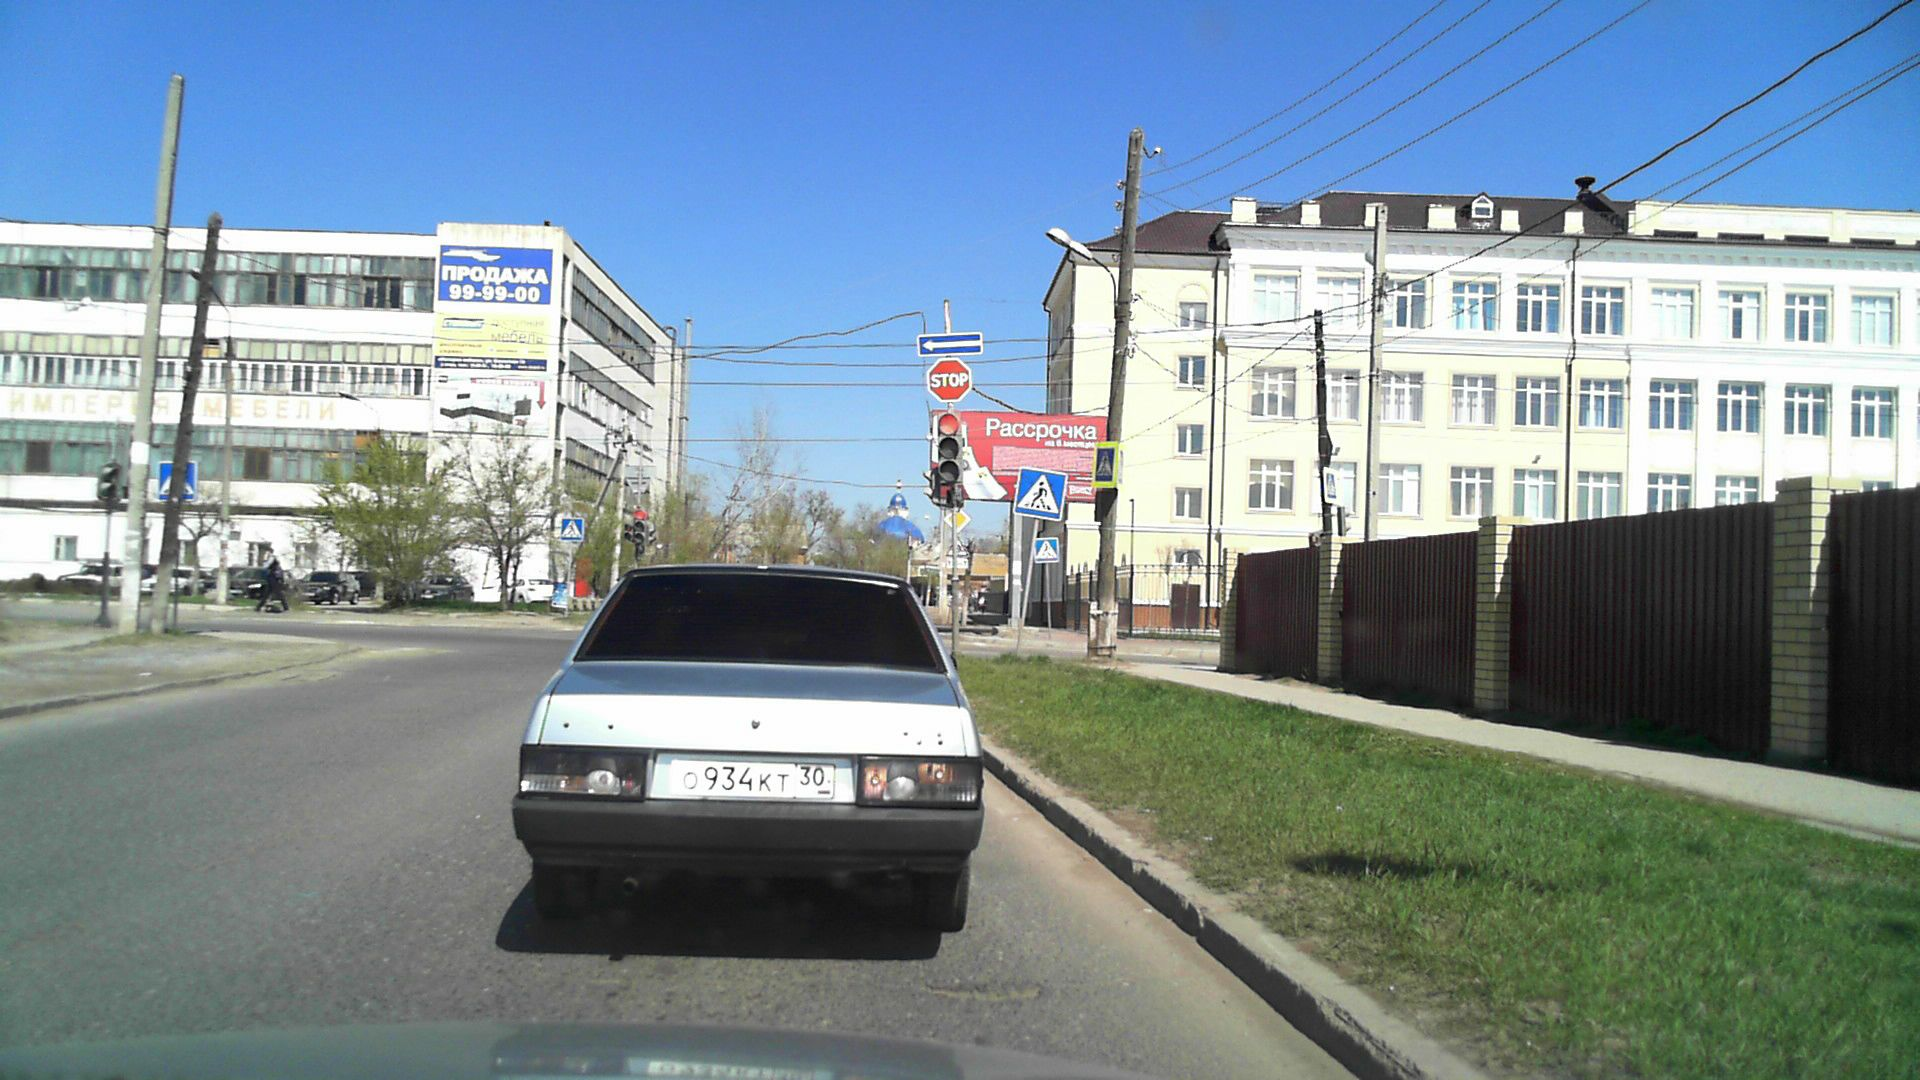One-Way Traffic: (918, 334, 982, 355)
Pedestrian Crossing: (1018, 469, 1063, 518)
